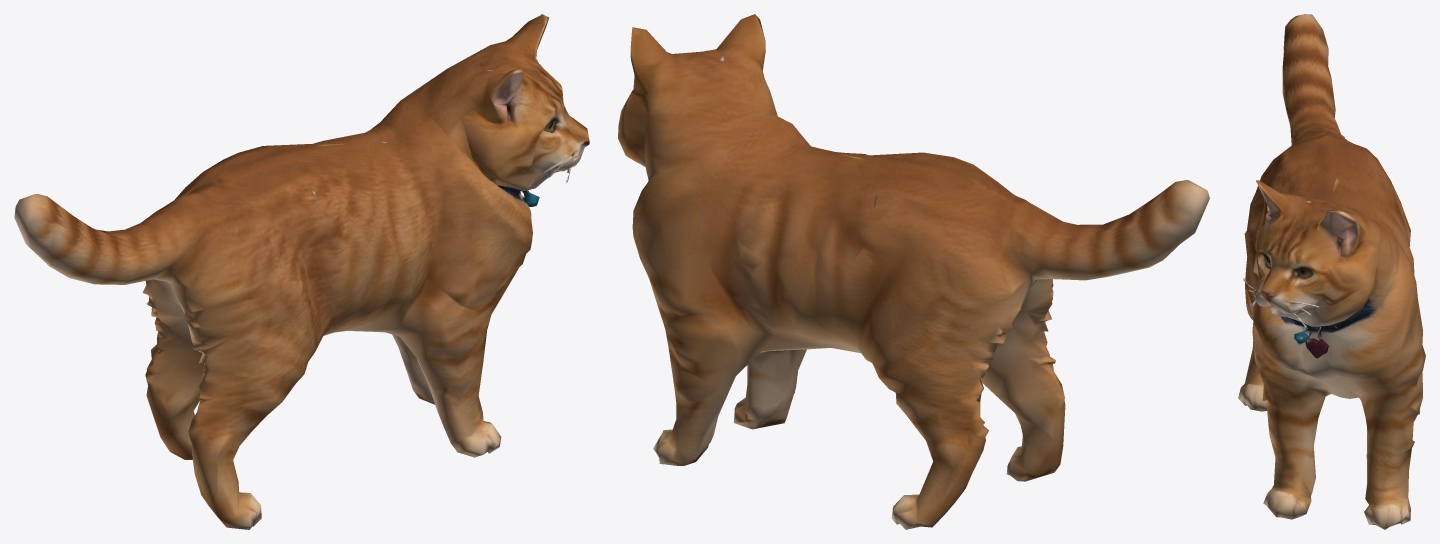
File: PAPRIKA-lo.glb
3 views of the same model, side by side, from view 1: azimuth 30°, elevation 25°; view 2: azimuth 150°, elevation 25°; view 3: azimuth 270°, elevation 25° (orthographic). The views are drawn at different scales.
Visible parts, largest first — view 1: tripo_node_335e7f28-f03f-4e2c-9164-4559c79f9c66; view 2: tripo_node_335e7f28-f03f-4e2c-9164-4559c79f9c66; view 3: tripo_node_335e7f28-f03f-4e2c-9164-4559c79f9c66.
Part boxes in pixels (left/top/right/bottom): tripo_node_335e7f28-f03f-4e2c-9164-4559c79f9c66: left=14, top=14, right=589, bottom=529; tripo_node_335e7f28-f03f-4e2c-9164-4559c79f9c66: left=618, top=14, right=1209, bottom=529; tripo_node_335e7f28-f03f-4e2c-9164-4559c79f9c66: left=1238, top=14, right=1425, bottom=529.
Bounding box in the file's own units: 1.5 × 0.996 × 0.4889.
1 material, 1 textured.
